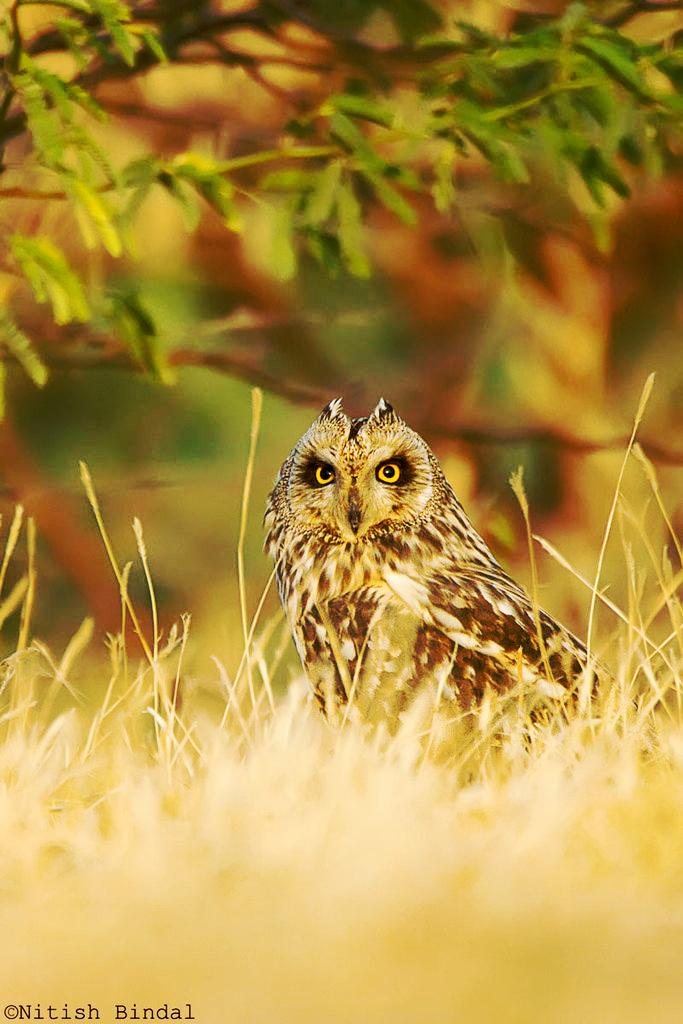Owl: (254, 403, 606, 769)
